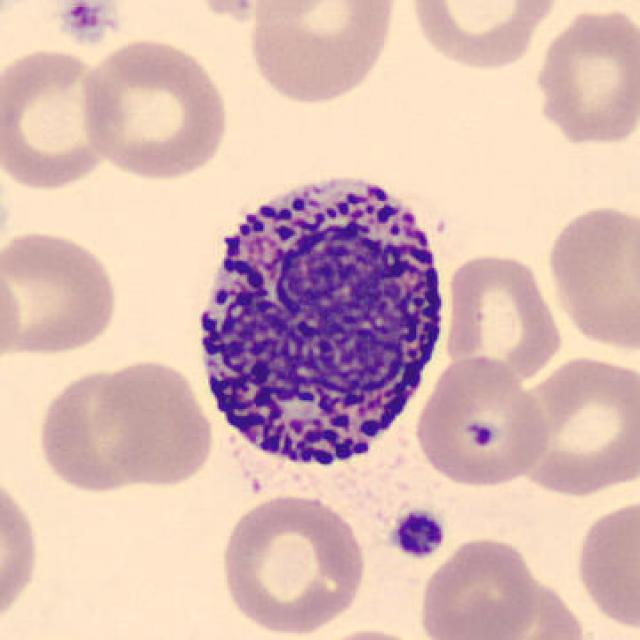Basophil: (181, 157, 459, 490)
Platelets: (388, 506, 448, 561), (57, 2, 115, 44)
RBC: (76, 34, 233, 184), (215, 488, 370, 636), (412, 353, 553, 492), (510, 351, 638, 499), (36, 360, 170, 496), (89, 354, 219, 492), (0, 44, 119, 194), (441, 248, 565, 388), (243, 0, 400, 109), (0, 226, 123, 362), (530, 4, 638, 148), (542, 199, 638, 353), (416, 532, 542, 640), (403, 0, 563, 72), (570, 493, 640, 634), (470, 578, 589, 640), (0, 466, 43, 636), (185, 0, 336, 26), (0, 250, 27, 370), (304, 624, 434, 640)
